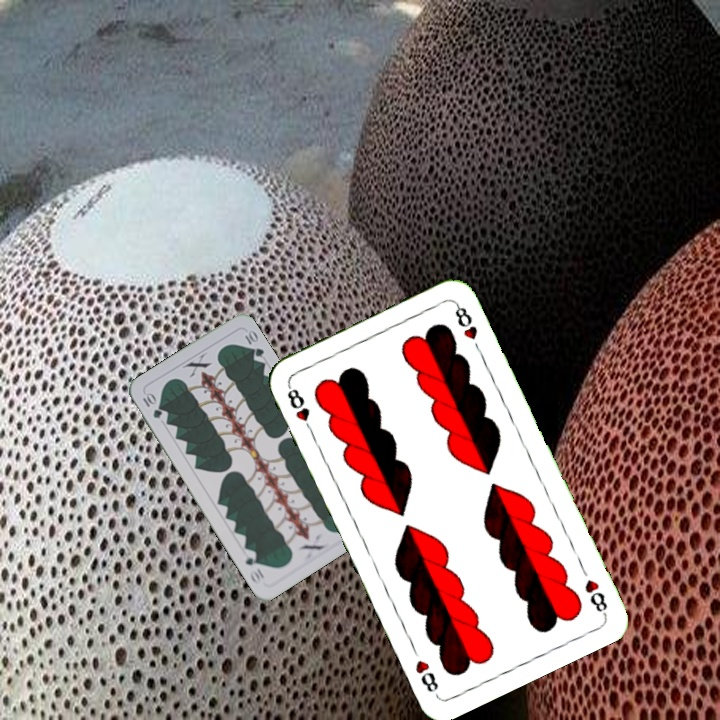G10: (138, 389, 165, 421)
H8: (283, 381, 316, 436), (580, 575, 610, 618)
